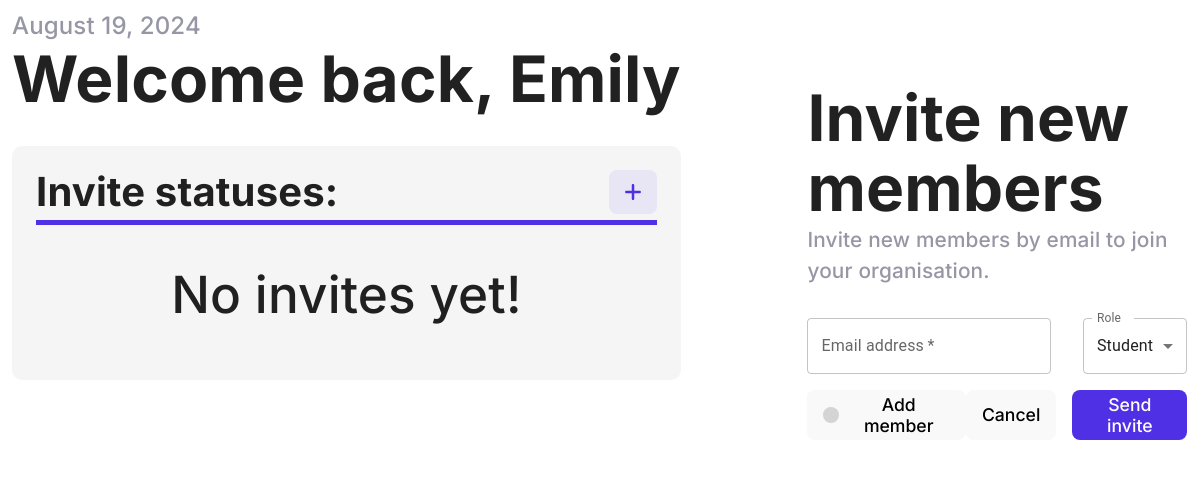
Test: Invite Component › adds a new member invite row on click for admins
Click the button "Add member".
click(887, 415)  # box 807,390 -> 966,440
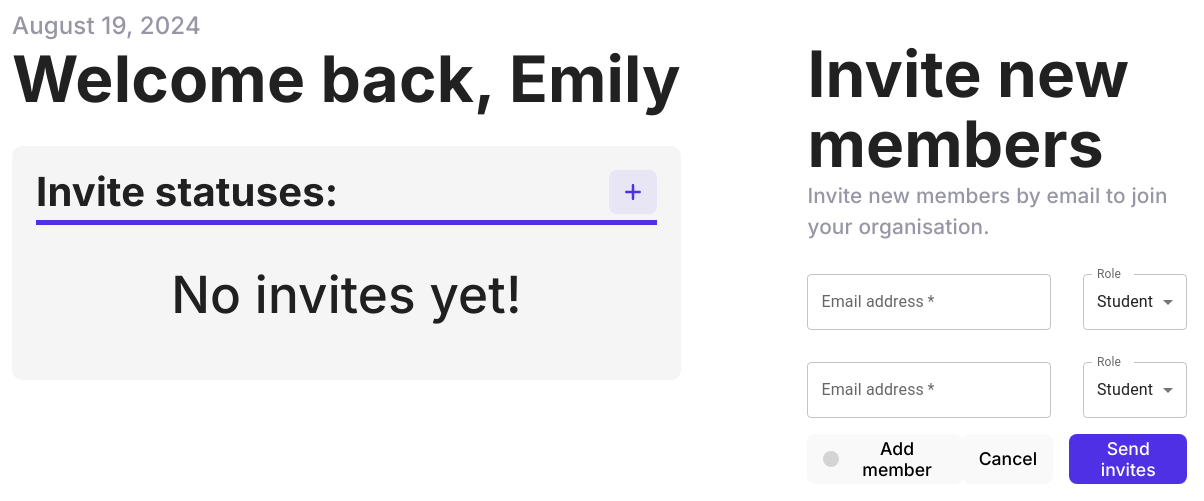
Result: the text "Email address" is shown 2 times at 821,290 -> 934,313; 821,378 -> 934,401
